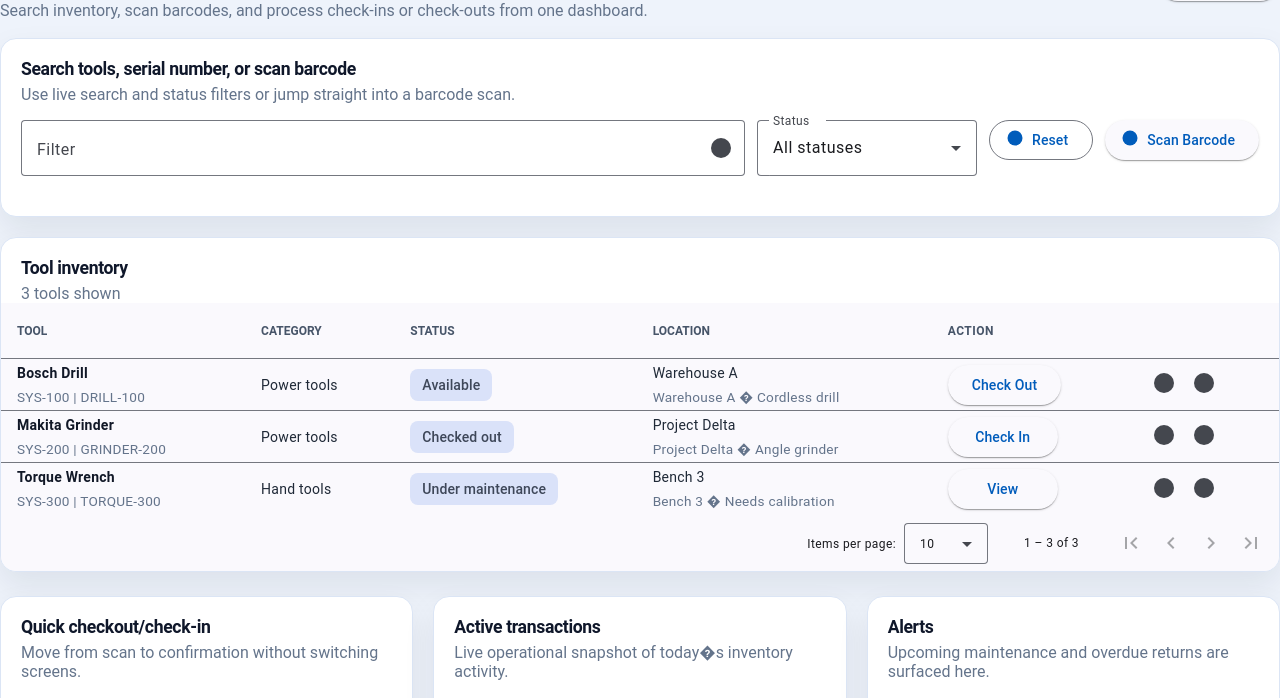
Test: ToolsListComponent › selects a tool into the quick action panel when the row action is clicked
Click the button with test id "row-action-1": (1004, 385) [948,365,1061,405]
(page scrolled)
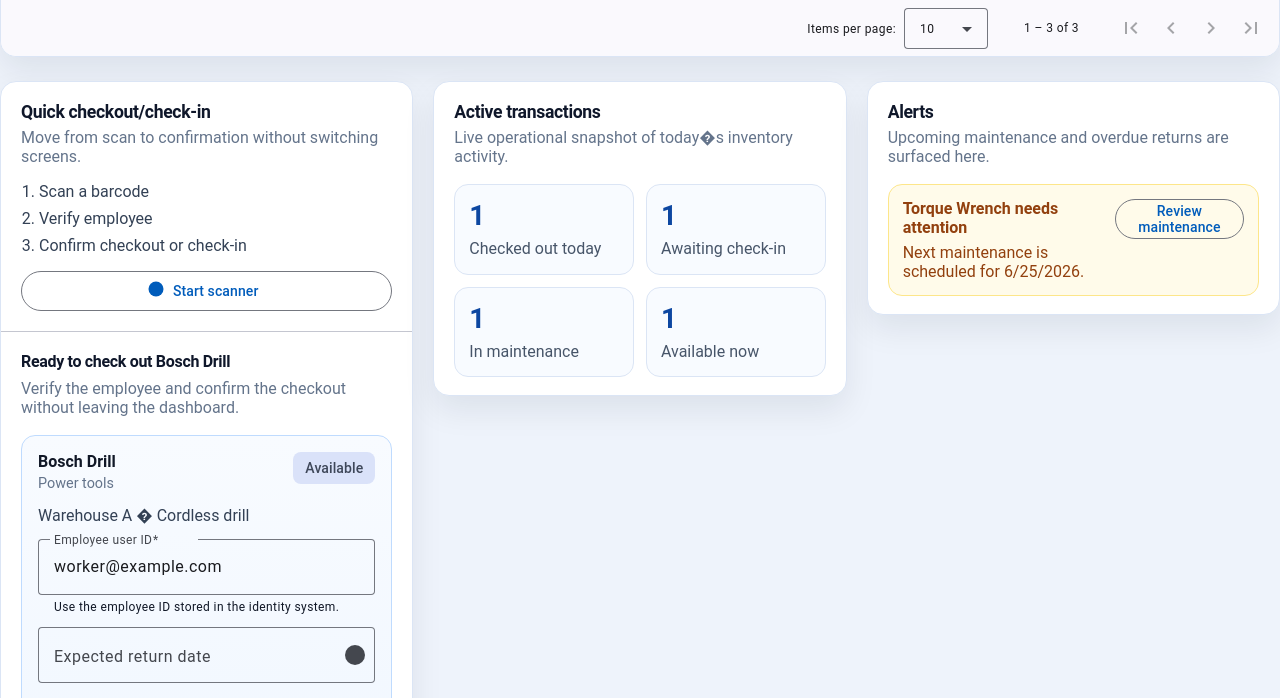
expect the heading with test id "quick-panel-selection" reads "Ready to check out Bosch Drill": met, box [21,352,230,371]
